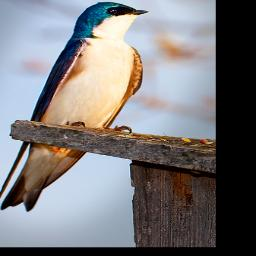Swallow: (0, 1, 149, 213)
